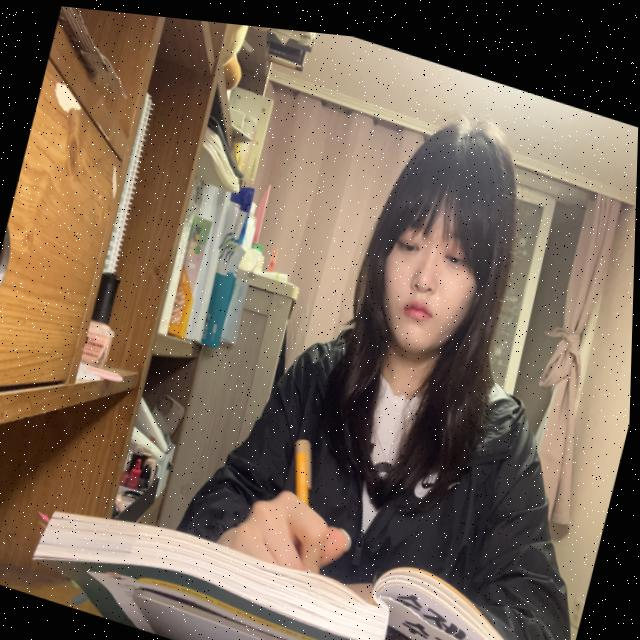studying-person: (24, 3, 640, 640)
